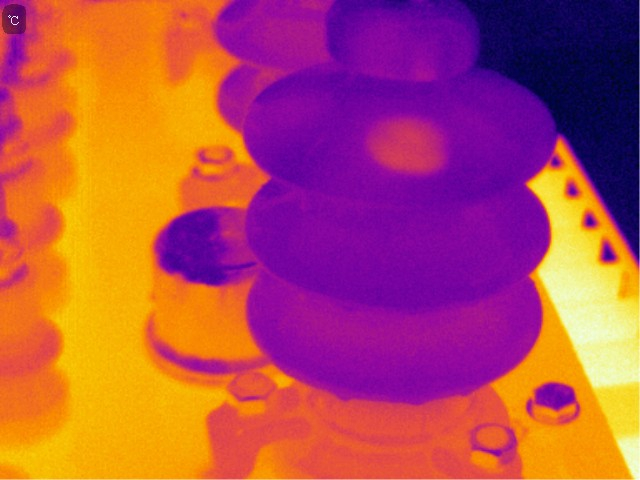Oil: (362, 107, 453, 180), (330, 385, 351, 404)
